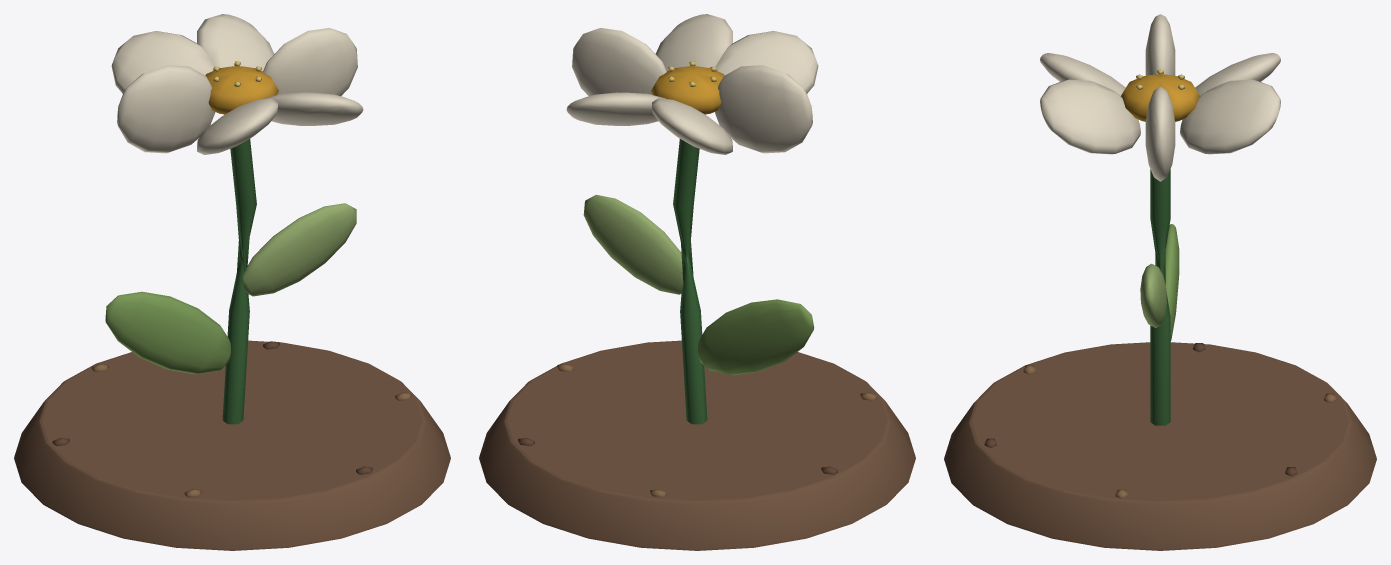
Rendered from flower_stage3_white.glb.
3 renders of one model, left to right at view 1: azimuth 30°, elevation 25°; view 2: azimuth 150°, elevation 25°; view 3: azimuth 270°, elevation 25°, orthographic.
Size of the model in its own units: 0.3775 by 0.391 by 0.3775.
